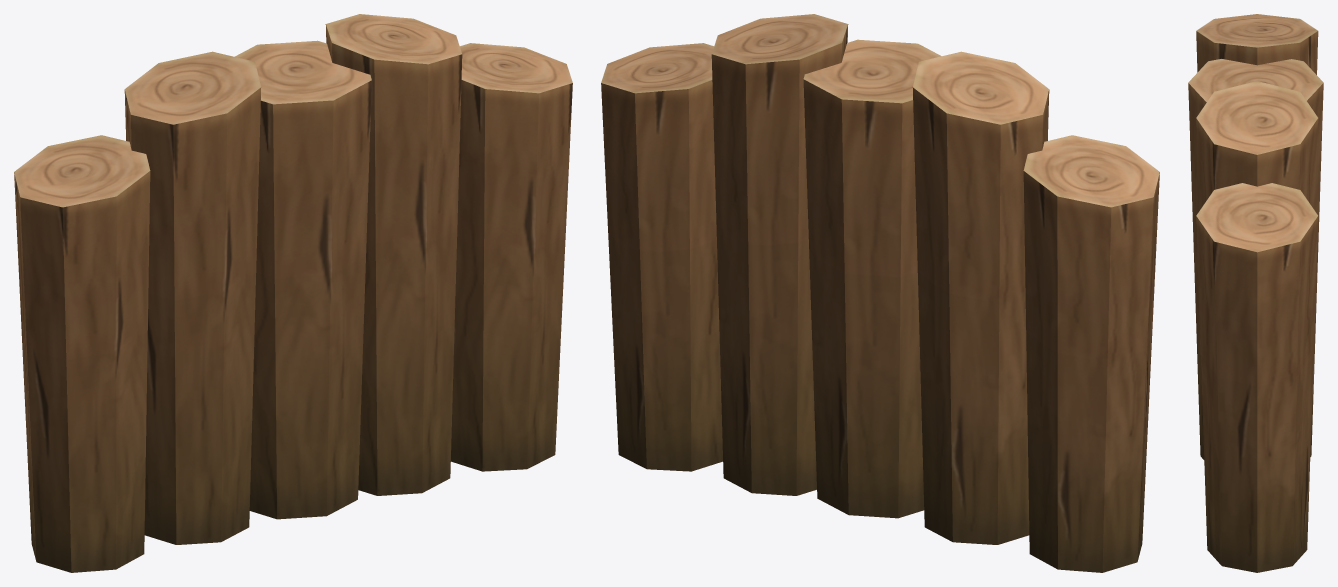
Rendered from wooden_fence_16.fbx.
The picture shows the model from 3 angles, left to right: view 1: azimuth 30°, elevation 25°; view 2: azimuth 150°, elevation 25°; view 3: azimuth 270°, elevation 25°; orthographic projection. The views are drawn at different scales.
Parts seen in each view (by area): view 1: wooden_fence_16:Mesh; view 2: wooden_fence_16:Mesh; view 3: wooden_fence_16:Mesh.
Part boxes in pixels (x1=…): wooden_fence_16:Mesh: x1=14, y1=14, x2=572, y2=572; wooden_fence_16:Mesh: x1=601, y1=14, x2=1159, y2=572; wooden_fence_16:Mesh: x1=1188, y1=14, x2=1323, y2=572.
Bounding box in the file's own units: 4.35 × 3.4 × 1.05.
